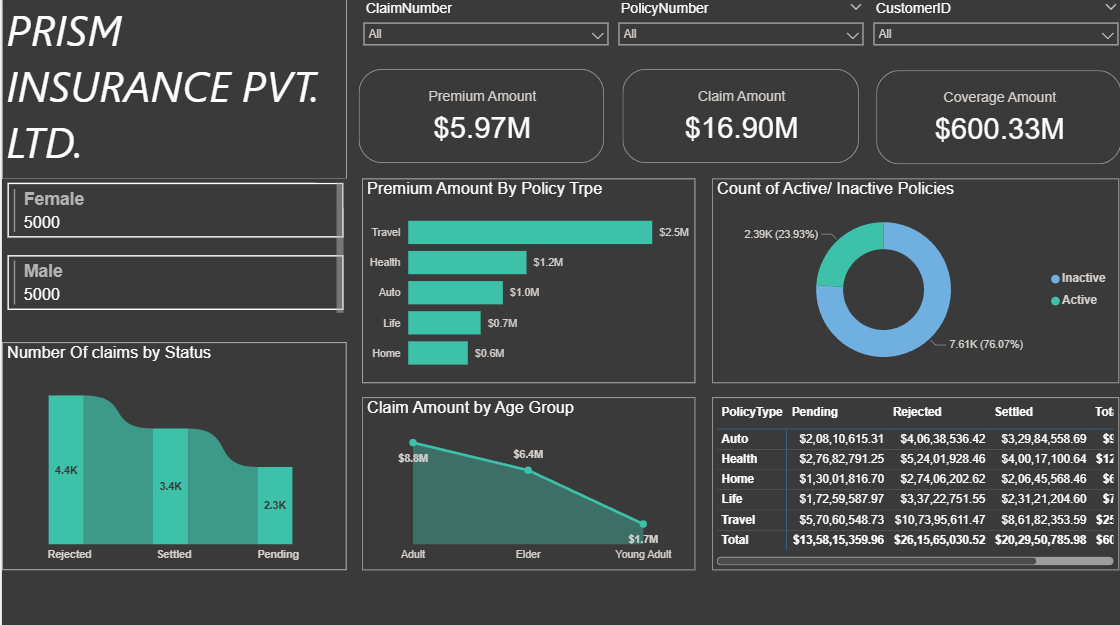

What the dashboard file says about the page in this screenshot:
{"tool":"powerbi","page":{"name":"Page 1","canvas":[1280,720],"ordinal":0},"visuals":[{"type":"slicer","fields":{"Values":["InsuranceData.PolicyNumber"]},"box":[691.3,0,299.2,78.4],"z":0},{"type":"slicer","fields":{"Values":["InsuranceData.CustomerID"]},"box":[980.8,0,299.2,78.4],"z":1000},{"type":"slicer","fields":{"Values":["InsuranceData.ClaimNumber"]},"box":[401.7,0,299.2,78.4],"z":2000},{"type":"textbox","box":[0,0,392.1,207.5],"z":3000},{"type":"cardVisual","fields":{"Data":["Sum(InsuranceData.PremiumAmount)"]},"box":[401.7,78.4,289.5,117],"z":4000},{"type":"cardVisual","fields":{"Data":["Sum(InsuranceData.ClaimAmount)"]},"box":[700.9,78.4,279.9,117],"z":5000},{"type":"cardVisual","fields":{"Data":["Sum(InsuranceData.CoverageAmount)"]},"box":[990.5,79.6,289.5,117],"z":6000},{"type":"multiRowCard","fields":{"Values":["InsuranceData.Gender","CountNonNull(InsuranceData.Gender)"]},"box":[1.2,207.5,392.1,170.1],"z":7000},{"type":"ribbonChart","title":"Number Of claims by Status","fields":{"Category":["InsuranceData.ClaimStatus"],"Y":["CountNonNull(InsuranceData.ClaimStatus)"]},"box":[0,394.5,392.1,259.4],"z":8000},{"type":"barChart","title":"Premium Amount By Policy Trpe","fields":{"Category":["InsuranceData.PolicyType"],"Y":["Sum(InsuranceData.PremiumAmount)"]},"box":[410.2,207.5,378.8,232.8],"z":9000},{"type":"lineChart","title":"Claim Amount by Age Group","fields":{"Category":["InsuranceData.Age Group"],"Y":["Sum(InsuranceData.ClaimAmount)"]},"box":[410.2,457.2,378.8,196.6],"z":10000},{"type":"donutChart","title":"Count of Active/ Inactive Policies","fields":{"Y":["CountNonNull(InsuranceData.Active/ Inactive)"],"Category":["InsuranceData.Active/ Inactive"]},"box":[808.3,207.5,463.3,232.8],"z":11000},{"type":"pivotTable","fields":{"Values":["Sum(InsuranceData.CoverageAmount)"],"Rows":["InsuranceData.PolicyType"],"Columns":["InsuranceData.ClaimStatus"]},"box":[808,457,463,197],"z":12000}]}

Visuals, with their boxes in screenshot pixels (x1, y1, x2, y2), scaled from the page's 1280x720 canvas onto the 1120x625 screenshot:
slicer - InsuranceData.PolicyNumber: (605, 0, 867, 68)
slicer - InsuranceData.CustomerID: (858, 0, 1119, 68)
slicer - InsuranceData.ClaimNumber: (351, 0, 613, 68)
textbox: (0, 0, 343, 180)
cardVisual - Sum(InsuranceData.PremiumAmount): (351, 68, 605, 170)
cardVisual - Sum(InsuranceData.ClaimAmount): (613, 68, 858, 170)
cardVisual - Sum(InsuranceData.CoverageAmount): (867, 69, 1119, 171)
multiRowCard - InsuranceData.Gender x CountNonNull(InsuranceData.Gender): (1, 180, 344, 328)
"Number Of claims by Status" ribbonChart: (0, 342, 343, 568)
"Premium Amount By Policy Trpe" barChart: (359, 180, 690, 382)
"Claim Amount by Age Group" lineChart: (359, 397, 690, 568)
"Count of Active/ Inactive Policies" donutChart: (707, 180, 1113, 382)
pivotTable - Sum(InsuranceData.CoverageAmount) x InsuranceData.PolicyType: (707, 397, 1112, 568)
